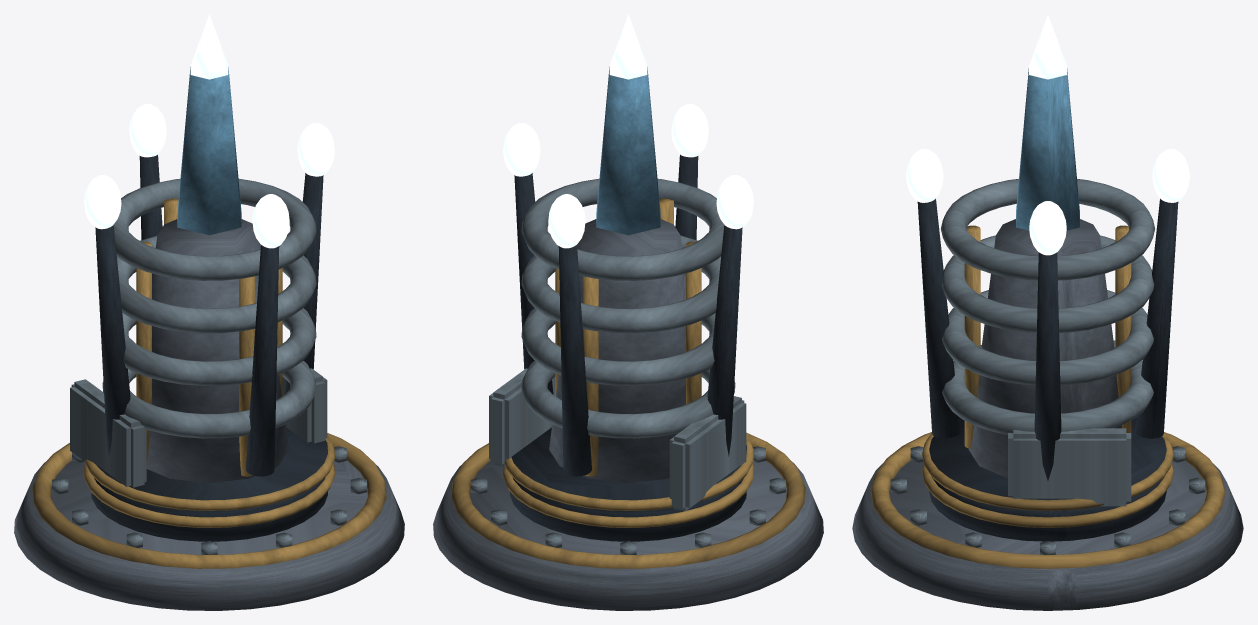
File: tower_slow_2.glb
3 renders of one model, left to right at view 1: azimuth 30°, elevation 25°; view 2: azimuth 150°, elevation 25°; view 3: azimuth 270°, elevation 25°, orthographic.
Parts seen in each view (by area): view 1: Weathered_granite, Weathered_blue_steel, Antique_brass, Forged_black_iron.001, Forged_black_iron, Blue_glacial_ice, Frost_core; view 2: Weathered_granite, Weathered_blue_steel, Antique_brass, Forged_black_iron.001, Blue_glacial_ice, Forged_black_iron, Frost_core; view 3: Weathered_granite, Weathered_blue_steel, Antique_brass, Forged_black_iron.001, Forged_black_iron, Blue_glacial_ice, Frost_core.
Boxes of the visible parts, x1=… form: Weathered_granite: x1=14, y1=219, x2=404, y2=610; Weathered_blue_steel: x1=52, y1=179, x2=366, y2=554; Antique_brass: x1=32, y1=198, x2=386, y2=568; Forged_black_iron.001: x1=95, y1=154, x2=323, y2=476; Forged_black_iron: x1=91, y1=427, x2=327, y2=541; Blue_glacial_ice: x1=177, y1=67, x2=241, y2=235; Frost_core: x1=84, y1=14, x2=334, y2=248; Weathered_granite: x1=433, y1=219, x2=823, y2=610; Weathered_blue_steel: x1=471, y1=179, x2=785, y2=554; Antique_brass: x1=451, y1=198, x2=805, y2=568; Forged_black_iron.001: x1=514, y1=154, x2=742, y2=476; Blue_glacial_ice: x1=596, y1=67, x2=660, y2=235; Forged_black_iron: x1=510, y1=427, x2=746, y2=541; Frost_core: x1=503, y1=14, x2=753, y2=248; Weathered_granite: x1=852, y1=219, x2=1243, y2=610; Weathered_blue_steel: x1=890, y1=179, x2=1205, y2=554; Antique_brass: x1=870, y1=225, x2=1225, y2=568; Forged_black_iron.001: x1=917, y1=198, x2=1178, y2=480; Forged_black_iron: x1=929, y1=417, x2=1166, y2=541; Blue_glacial_ice: x1=1016, y1=68, x2=1079, y2=230; Frost_core: x1=906, y1=14, x2=1189, y2=255.
Size of the model in its own units: 2.7 by 3.92 by 2.7.
6 materials, 5 textured.
